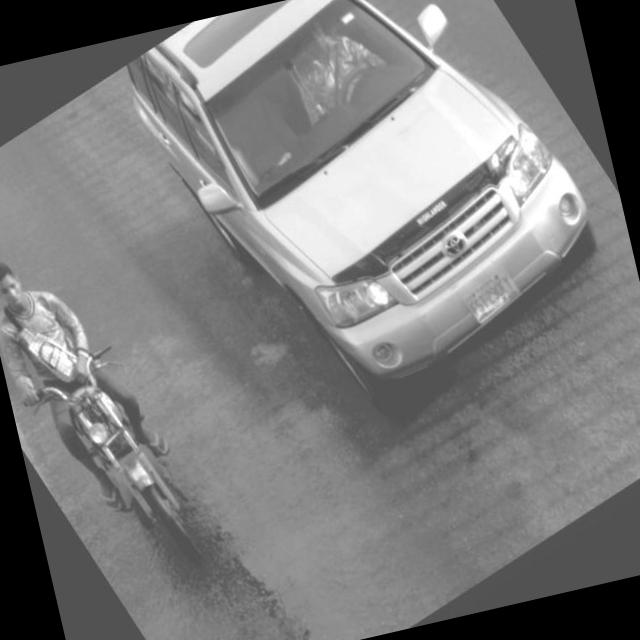person_with_seatbelt: (283, 0, 412, 148)
